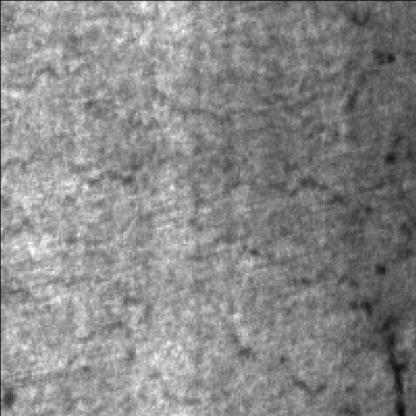crazing: (2, 54, 354, 285)
